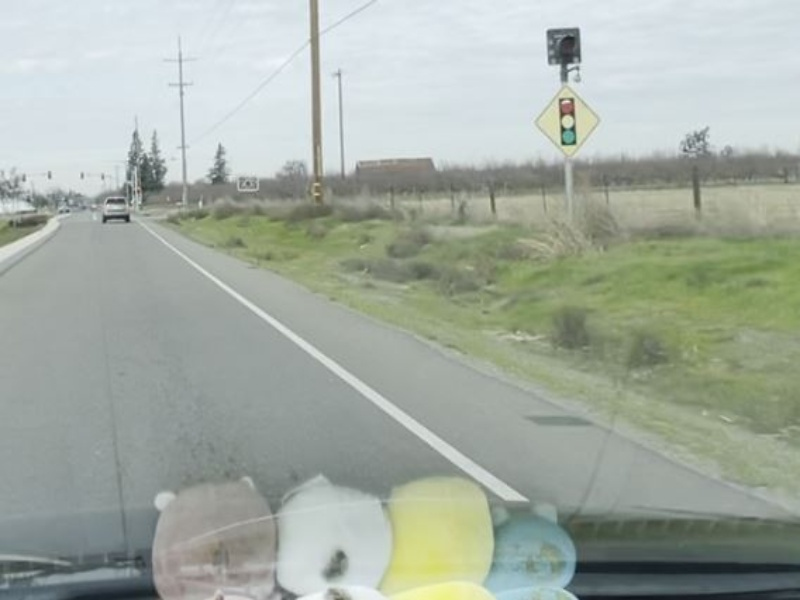traffic signal sign: (533, 84, 603, 158)
